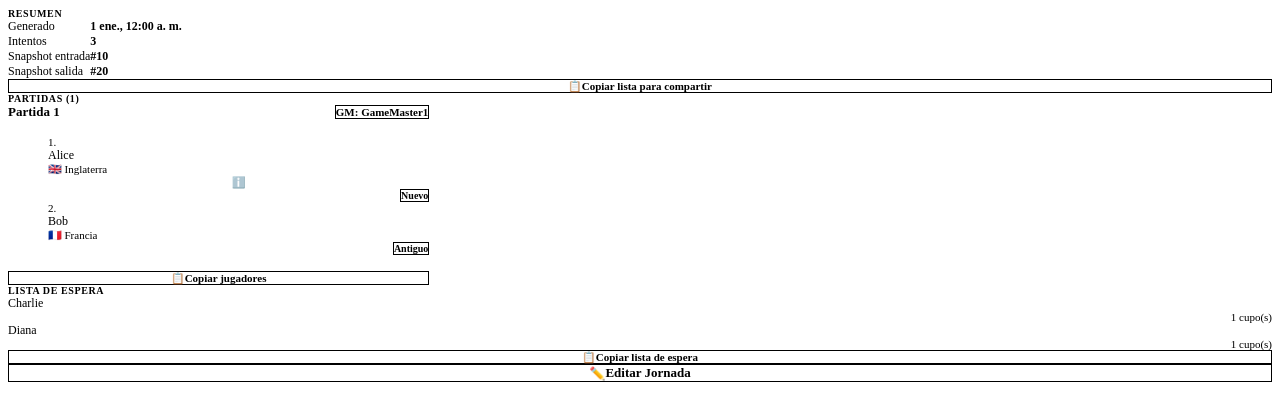
Test: GameDetail › country_reason DOM rendering › renders info icon and tooltip only for players with country_reason
Hover over the tooltip with class "tooltip-trigger" showing "ℹ️" at (239, 182), box [232,176,246,189]
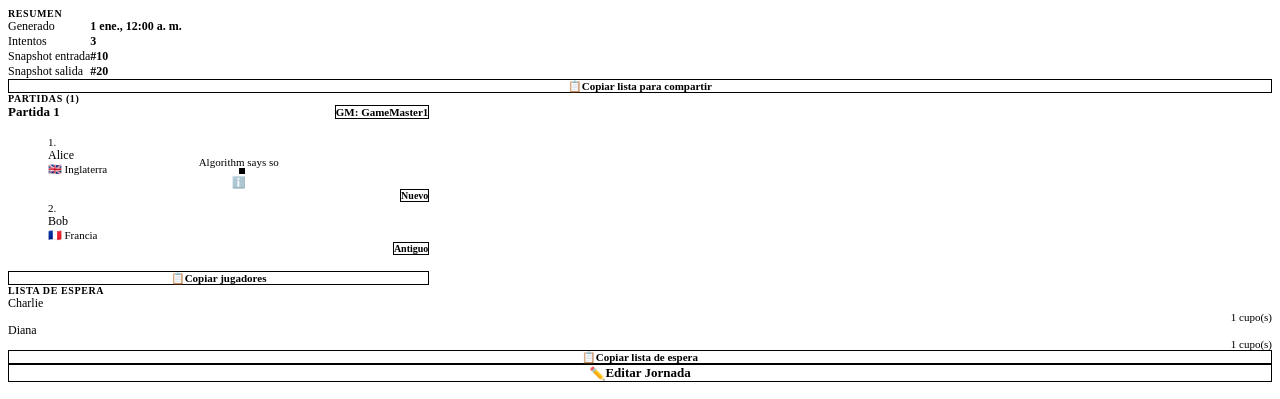
Expected: the text with class "tooltip-popover" reads "Algorithm says so", [199,156,279,168]
